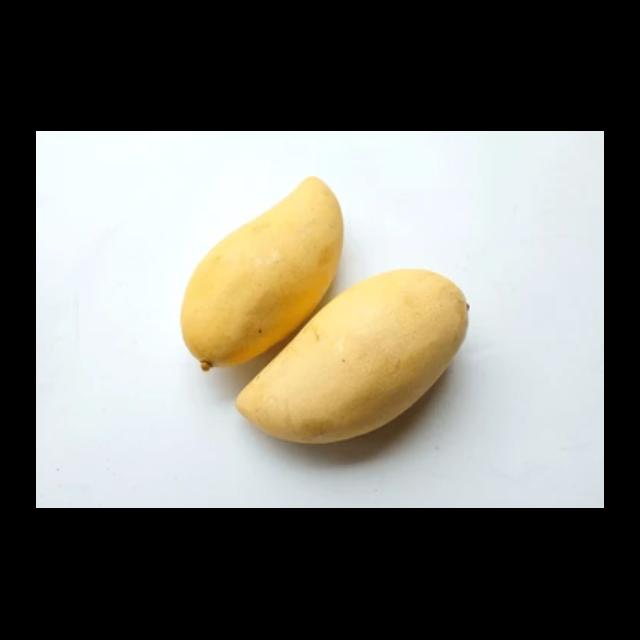mango: (234, 266, 468, 445), (179, 178, 343, 369)
